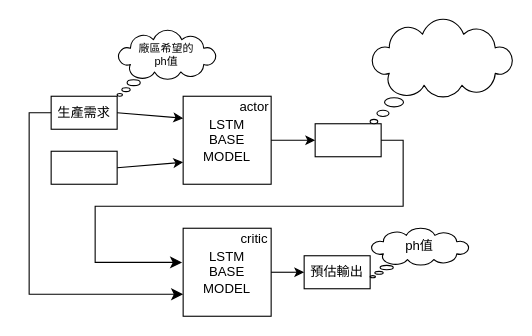
Some shapes in this 532 by 336 pixel diagram are drawn without their labels. The shapes that lost their labels are listed below. From the top down, each one's centre as x and y in pixels, then its label:
(x=441, y=71): 導電度,溫度, 液位,排泥量
(x=347, y=140): 建議操作
(x=83, y=167): 當前狀態
